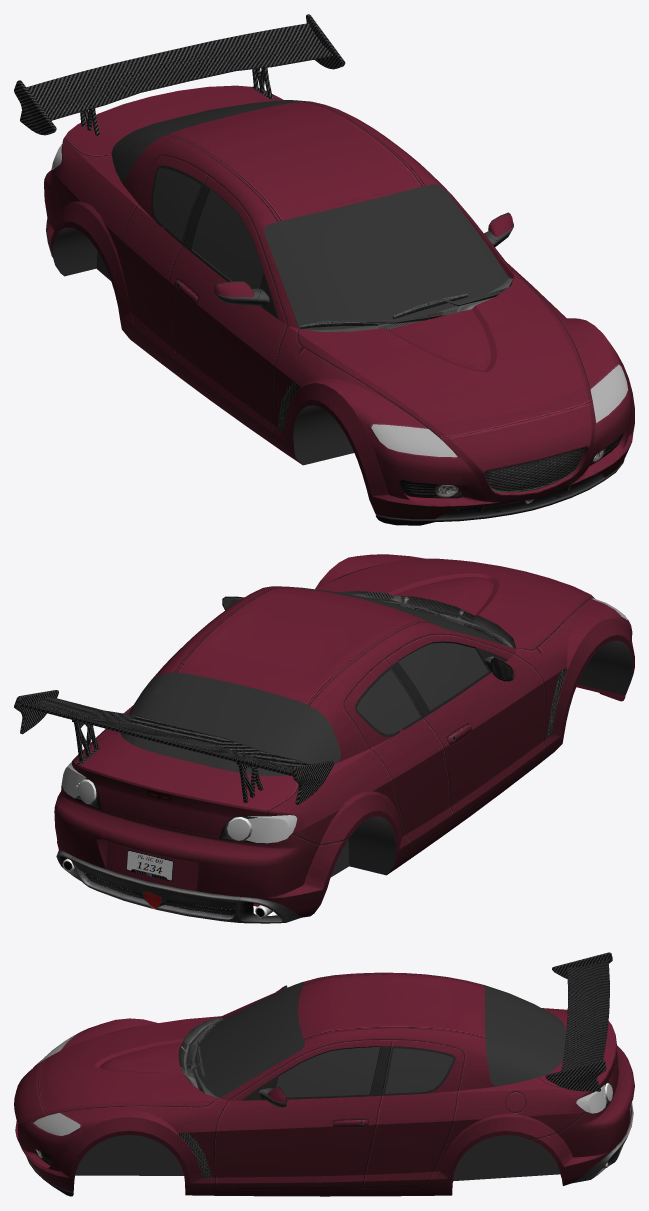
The picture shows the model from 3 angles, top to bottom: view 1: azimuth 30°, elevation 25°; view 2: azimuth 150°, elevation 25°; view 3: azimuth 270°, elevation 25°; orthographic projection. The views are drawn at different scales.
Visible parts, largest first — view 1: R8_car, shopoilar, light_glass1; view 2: R8_car, shopoilar, light_glass1; view 3: R8_car, shopoilar, light_glass1.
Part boxes in pixels (<box>): R8_car: <box>44,85,634,525</box>; shopoilar: <box>14,14,345,135</box>; light_glass1: <box>51,144,627,457</box>; R8_car: <box>54,554,634,923</box>; shopoilar: <box>14,690,334,804</box>; light_glass1: <box>61,556,627,843</box>; R8_car: <box>14,972,634,1196</box>; shopoilar: <box>545,952,612,1091</box>; light_glass1: <box>33,1033,612,1135</box>.
Size of the model in its own units: 527 by 334 by 1212.
